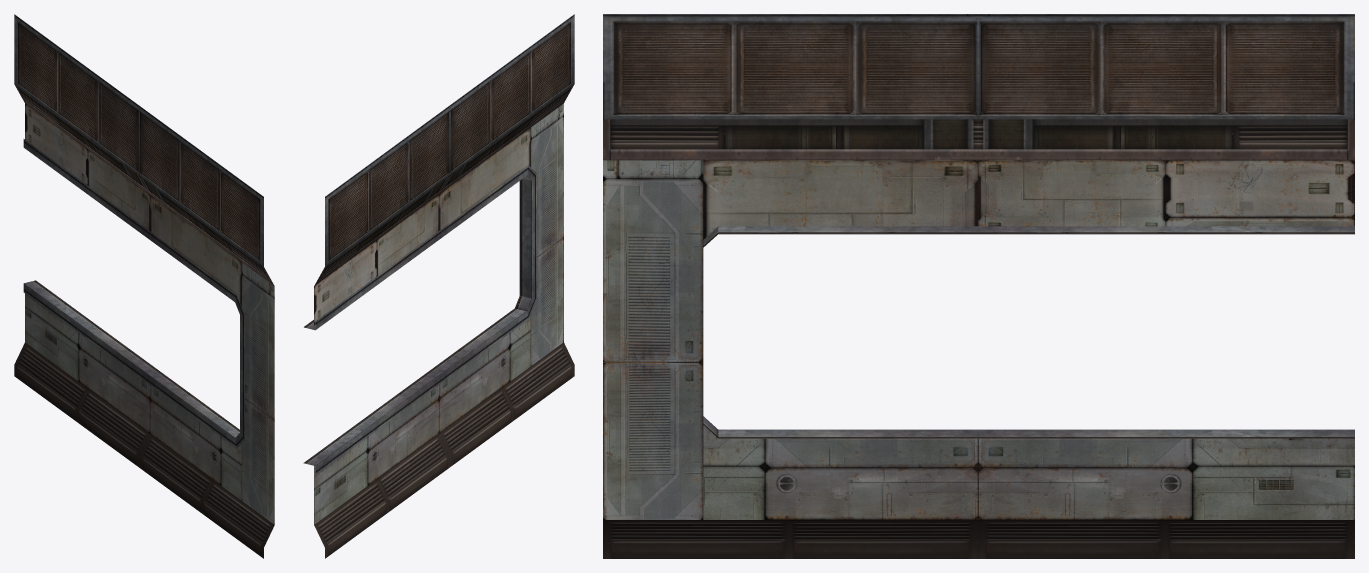
File: Wall_High_new08.fbx
3 views of the same model, side by side, from view 1: azimuth 30°, elevation 25°; view 2: azimuth 150°, elevation 25°; view 3: azimuth 270°, elevation 25° (orthographic). The views are drawn at different scales.
Visible parts, largest first — view 1: Wall_High_new08; view 2: Wall_High_new08; view 3: Wall_High_new08.
Boxes of the visible parts, box(x1,y1,x2,y2) form: Wall_High_new08: box(14, 14, 274, 558); Wall_High_new08: box(303, 14, 574, 558); Wall_High_new08: box(603, 14, 1354, 558).
Size of the model in its own units: 25 by 400 by 500.
